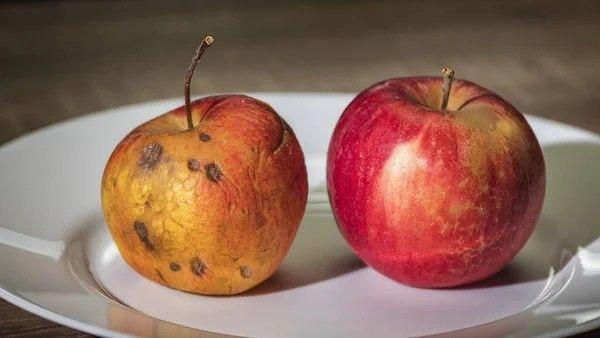Apple: (326, 78, 544, 288), (103, 95, 308, 296)
